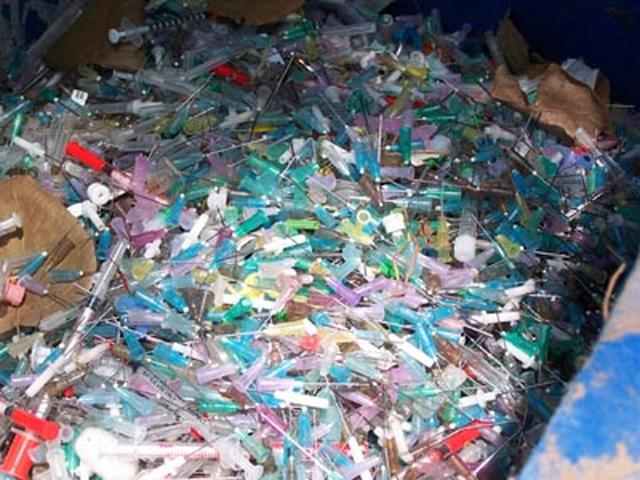garbage: (16, 35, 513, 440)
